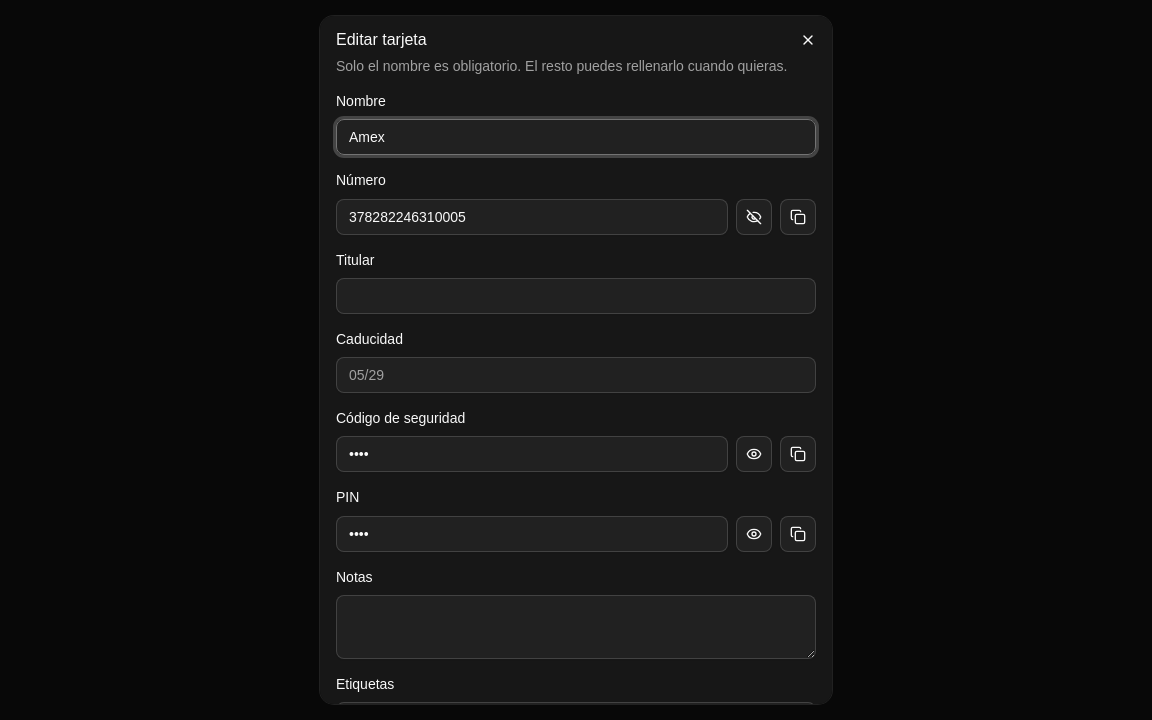
Test: what a card copies as a secret › clears the clipboard after copying «el código de seguridad»
The image size is (1152, 720).
Click the button named "Copiar el código de seguridad" at x=798, y=454, box [780,436,816,472]
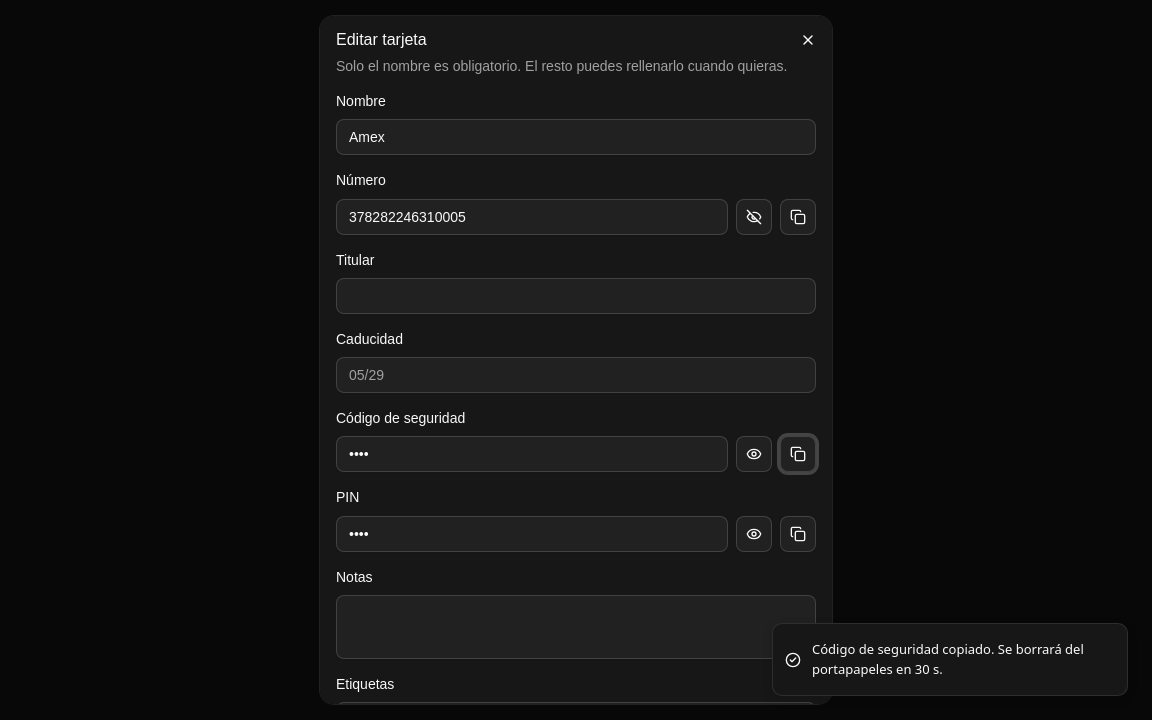
Result: the text "Se borrará del portapapeles" is shown at [812,640,1084,678]
